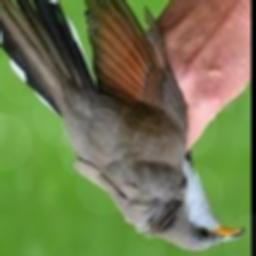Cuckoo: (0, 0, 245, 252)
